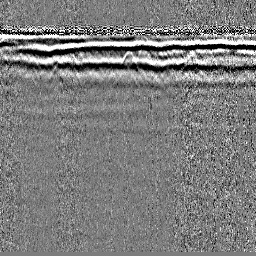cavity: (119, 47, 137, 70)
